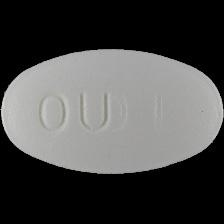45865-357: (0, 0, 224, 224)
